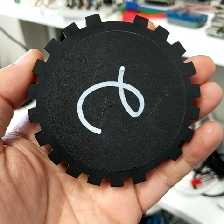gear: (26, 13, 201, 189)
missing: (132, 145, 183, 186), (83, 13, 150, 30)
